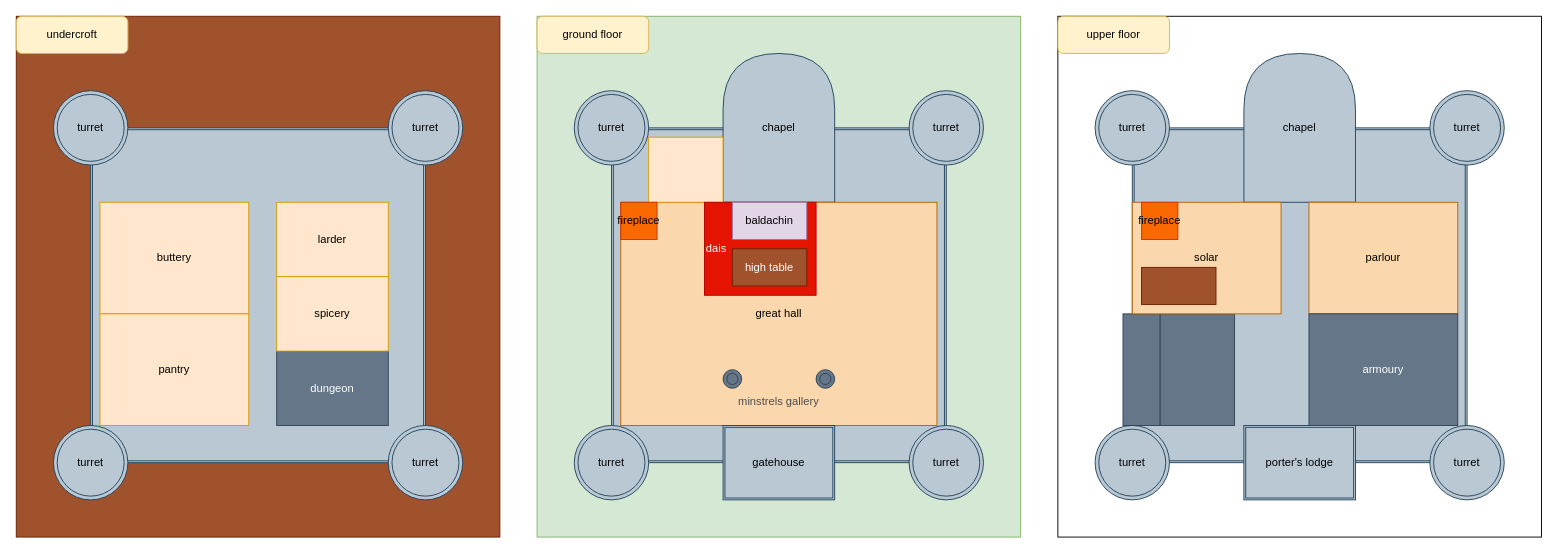
This 1558x553 diagram has some shape labels left out. Each missing label, with the centre of its shape:
garderobe: the point at 1197,369
kitchen: the point at 685,169
privy: the point at 1141,369
wardrobe: the point at 1178,285
